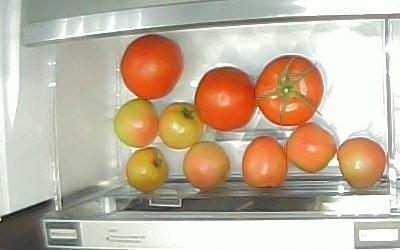tomato: (254, 54, 324, 125), (119, 34, 184, 99), (194, 67, 255, 131), (337, 137, 388, 189), (283, 124, 337, 173), (183, 141, 231, 191), (242, 137, 288, 189), (158, 101, 204, 150), (115, 98, 159, 148), (127, 148, 168, 192)
